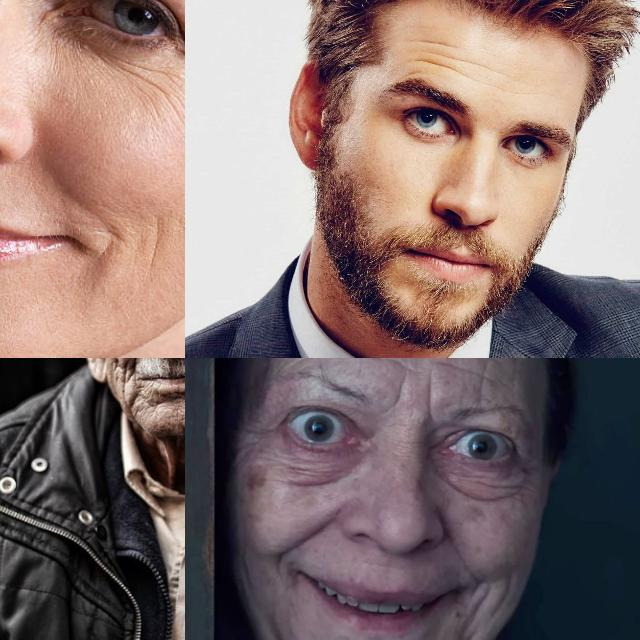chin: (118, 382, 142, 414)
crows_feet: (240, 422, 268, 456), (510, 460, 530, 498)
forehead: (417, 38, 463, 76), (467, 358, 500, 403), (480, 66, 524, 98)
frown_line: (390, 360, 406, 412), (422, 375, 438, 421)
gummy_smile: (280, 514, 340, 552), (439, 516, 476, 570), (127, 358, 153, 368)
masseter: (147, 212, 171, 272), (470, 582, 488, 632), (240, 548, 256, 590)
sad_smile: (94, 223, 126, 281)
